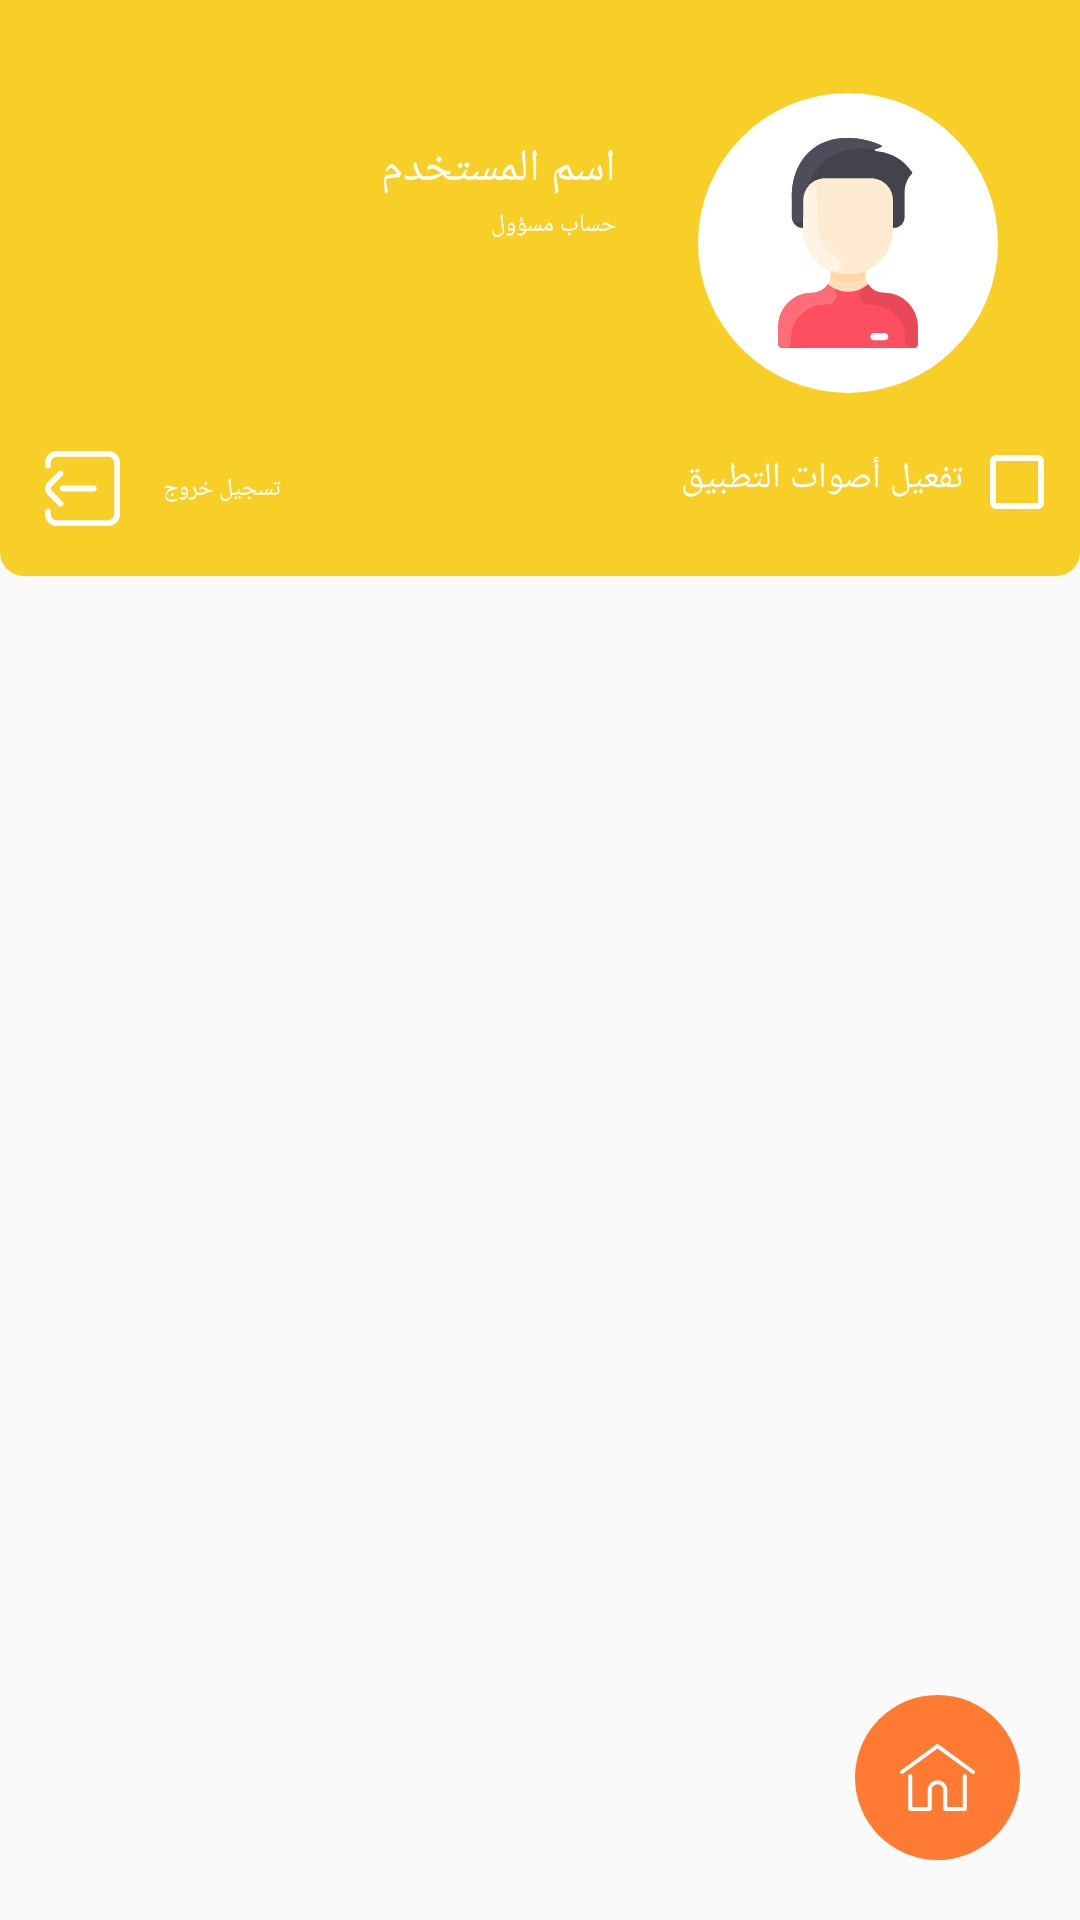

Icons on this 1080x1920 Android screen, each with its box as (x1, y1, x2, y2):
home: (855, 1695, 1020, 1860)
man: (698, 93, 998, 393)
